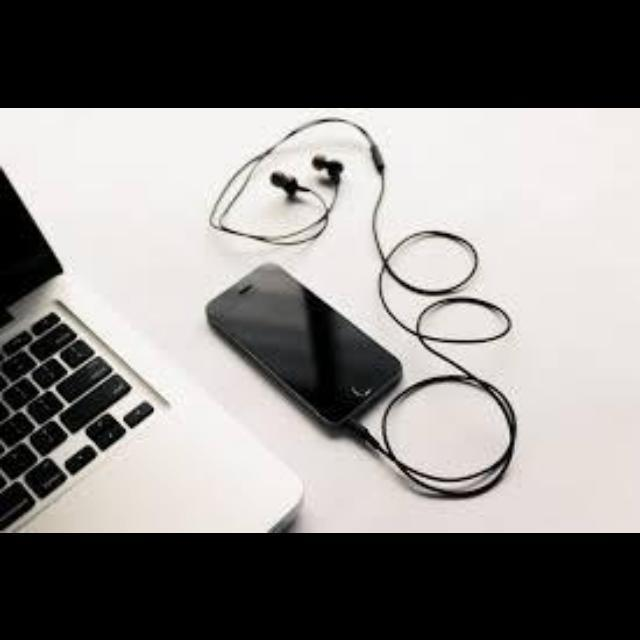PhoneUse: (194, 248, 416, 446)
